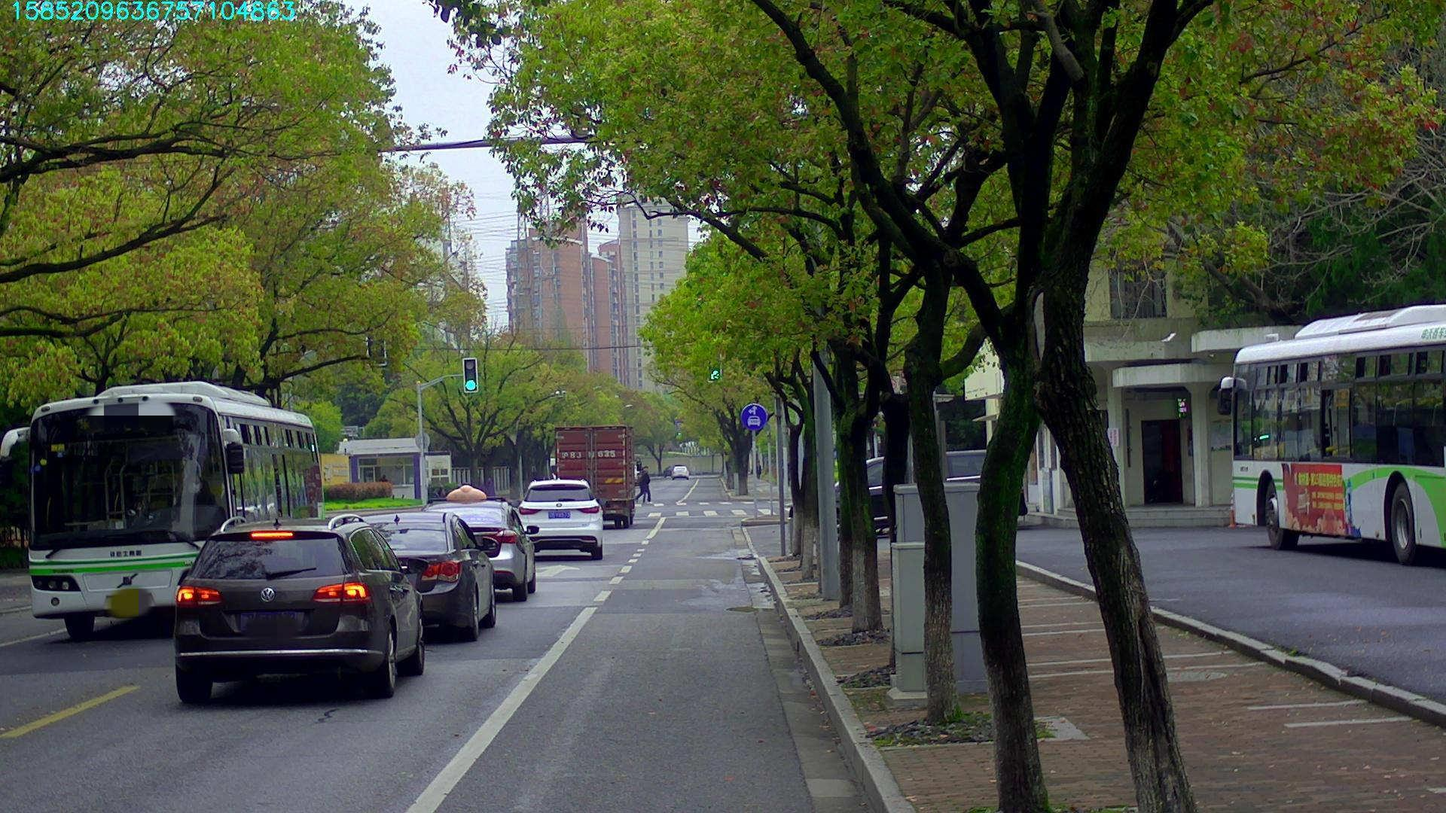green: (707, 347, 721, 383), (462, 358, 476, 391)
